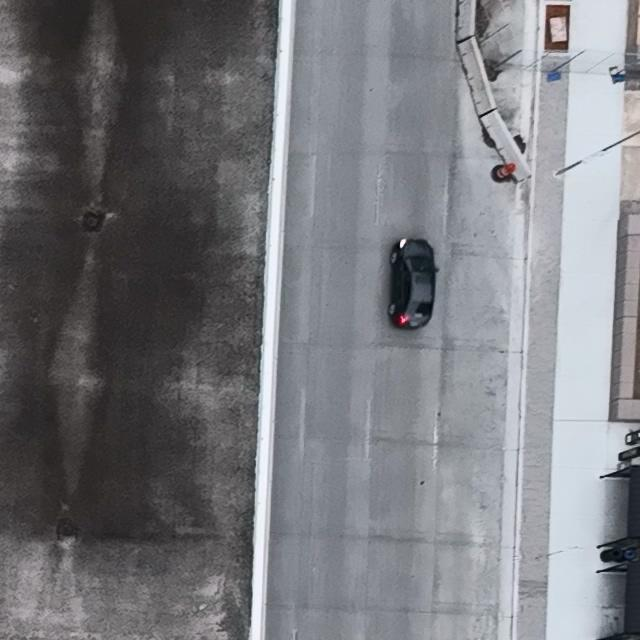car: (387, 238, 441, 331)
